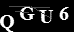6: (58, 6, 70, 21)
G: (19, 6, 36, 21)
Q: (1, 14, 15, 32)
U: (37, 9, 54, 24)
